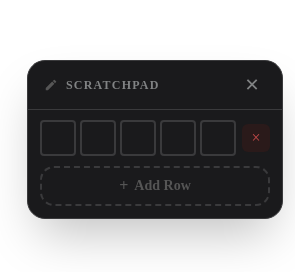
Test case: Scratchpad › deletes a row when × is clicked
# Add a row first
Click the button "+ Add Row". click: point(155, 186)
box: [40, 166, 270, 206]
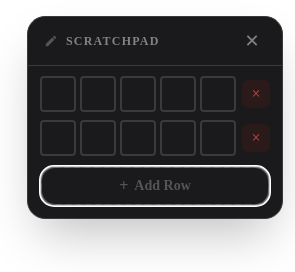
Now the number of buttons "×" is 2
# Delete first row
Click the 1st button "×". click: point(256, 94)
box: [242, 80, 270, 108]
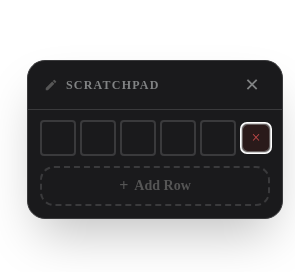
Now the number of buttons "×" is 1, box [242, 124, 270, 152]
